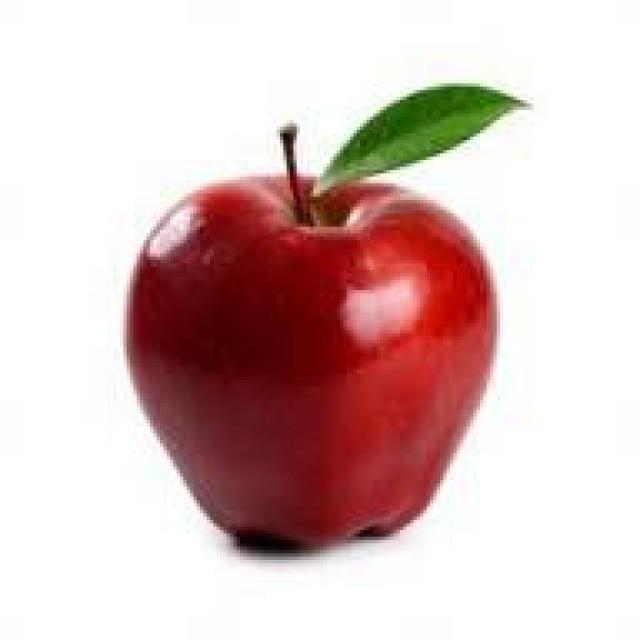apple: (124, 183, 494, 567)
